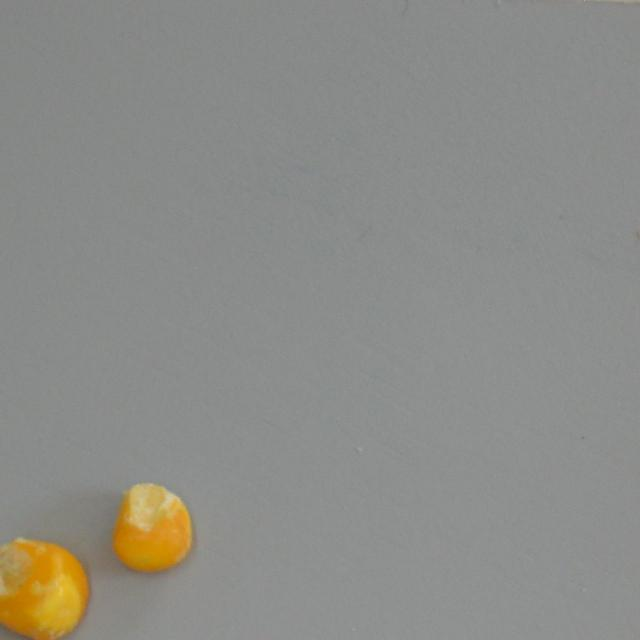no_desgerminado: (0, 532, 94, 640), (108, 478, 202, 578)
